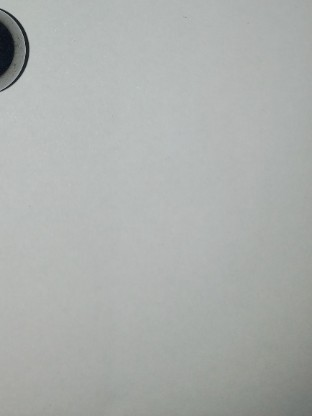ironball: (0, 6, 34, 96)
